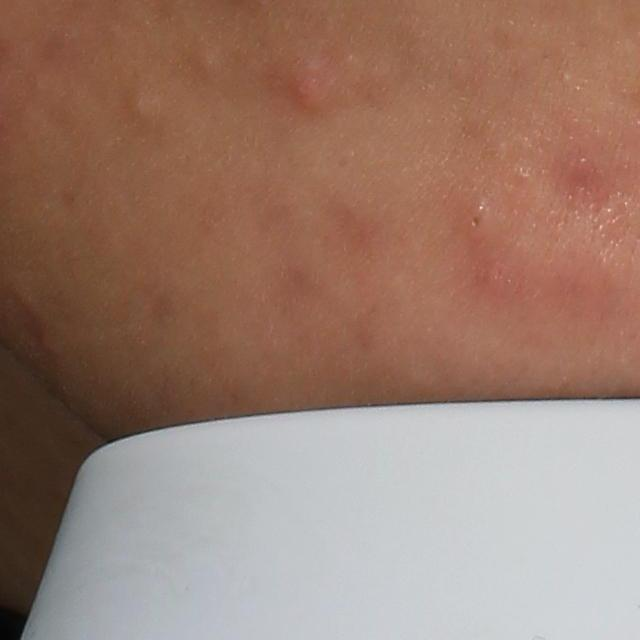comedo: (194, 38, 231, 89), (130, 85, 162, 125), (460, 203, 486, 240)
papule: (270, 44, 348, 123)
